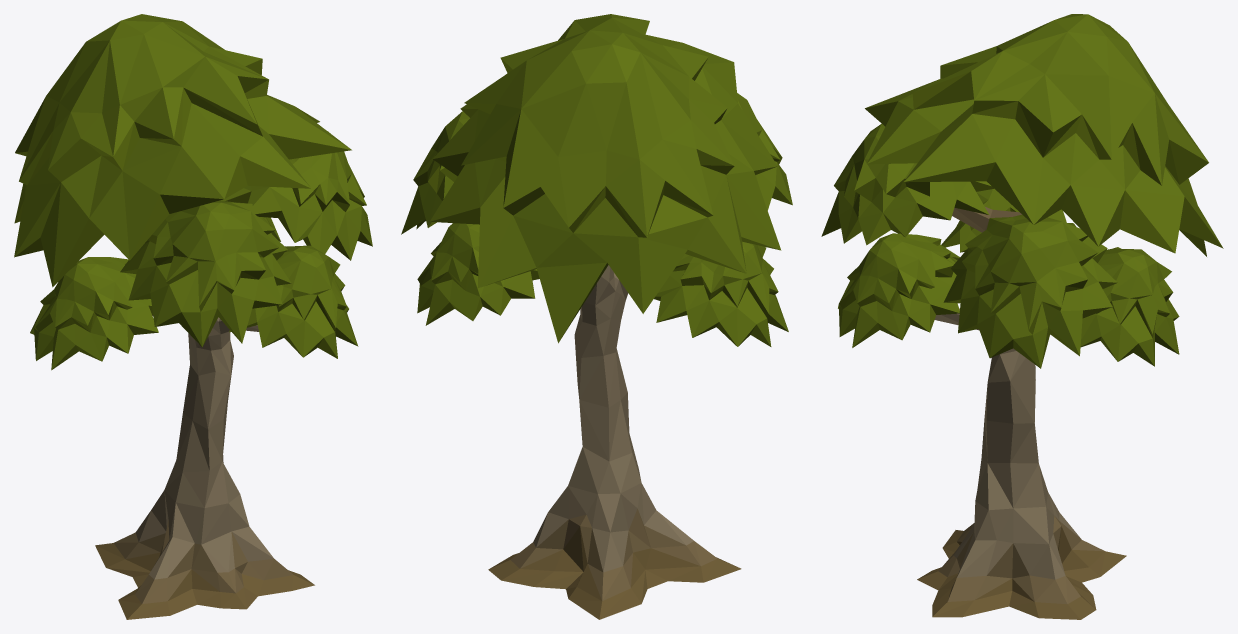
Rendered from wood-tree.gltf.
The picture shows the model from 3 angles, left to right: view 1: azimuth 30°, elevation 25°; view 2: azimuth 150°, elevation 25°; view 3: azimuth 270°, elevation 25°; orthographic projection. The views are drawn at different scales.
Size of the model in its own units: 382 by 586 by 392.
1 material, 1 textured.
